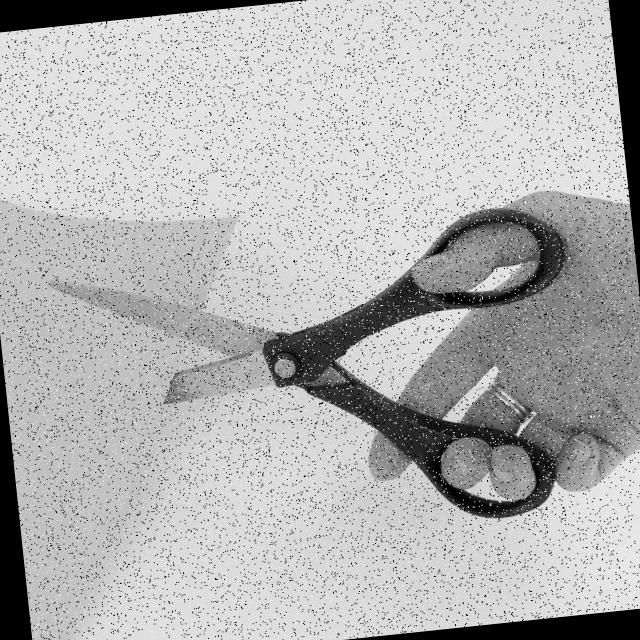scissors: (40, 198, 600, 568)
